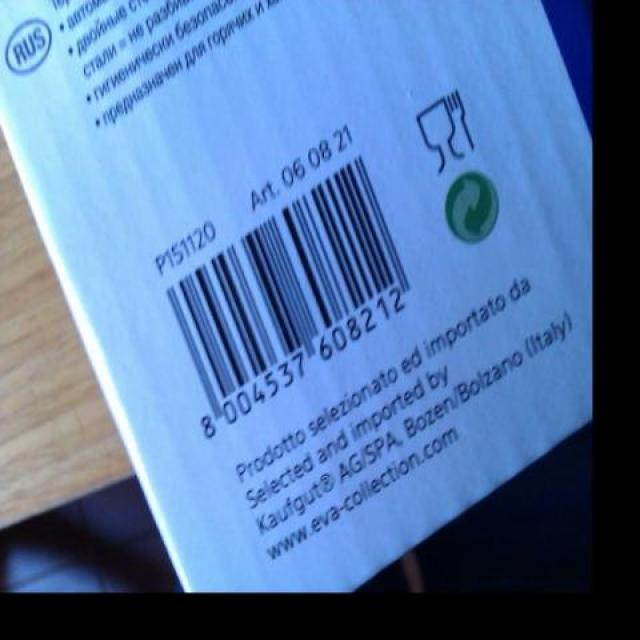Barcode: (142, 143, 431, 446)
